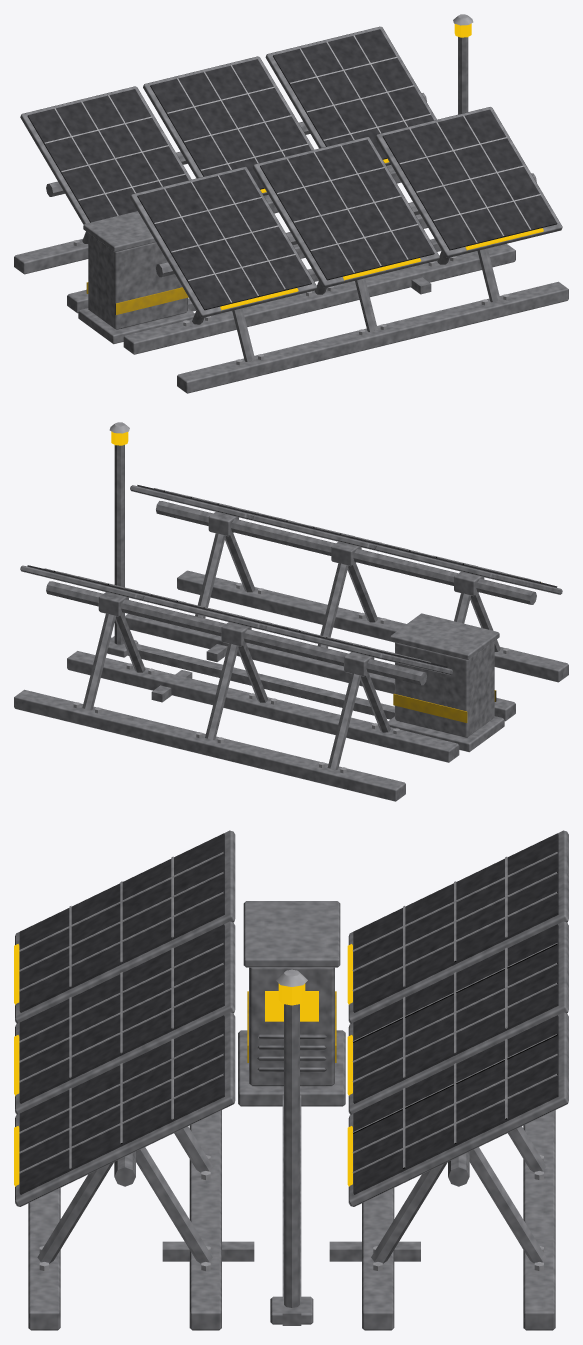
The model's file is nodexeus-array.glb.
The picture shows the model from 3 angles, top to bottom: view 1: azimuth 30°, elevation 25°; view 2: azimuth 150°, elevation 25°; view 3: azimuth 270°, elevation 25°; orthographic projection. The views are drawn at different scales.
Parts seen in each view (by area): view 1: array; view 2: array; view 3: array.
Part boxes in pixels (x1,y1,x2,y2): array: (14, 14, 568, 393); array: (14, 422, 568, 801); array: (14, 830, 568, 1330).
Size of the model in its own units: 2.53 by 1.41 by 2.06.
1 material, 1 textured.
